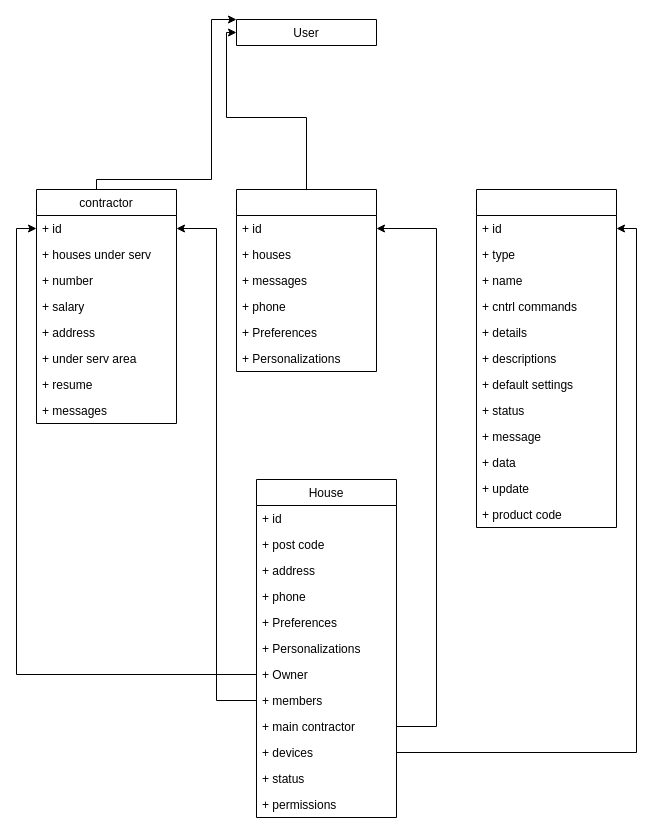
This 653x834 diagram has some shape labels left out. The shapes that lost their labels are listed below. From the top down, each one's box as (x1, y1, x2, y2) in pixels, then its label:
(236, 188, 376, 372): Customer
(476, 188, 616, 528): Device
